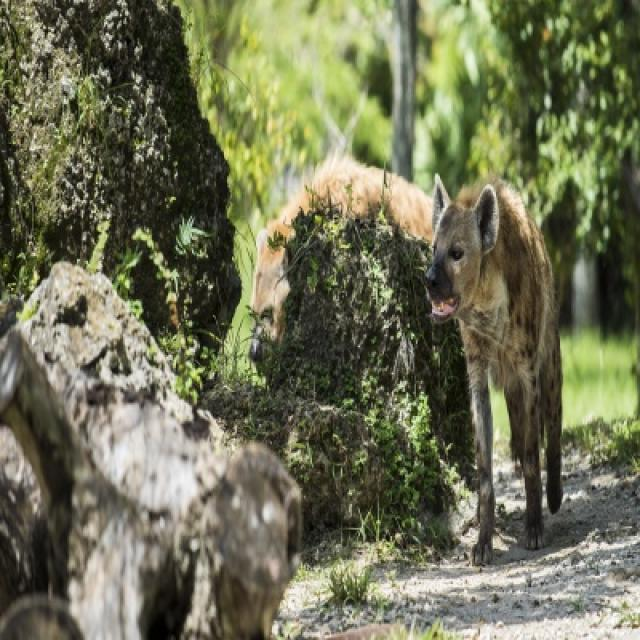hyena: (426, 174, 560, 563)
